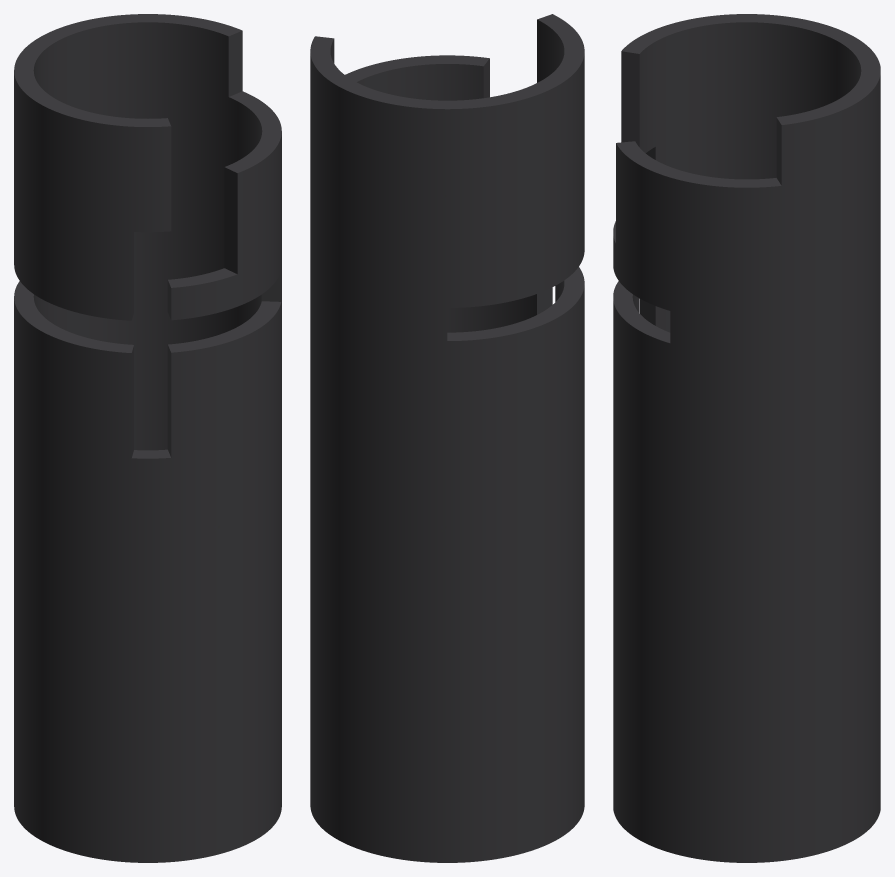
The model's file is king-black-hd.glb.
3 renders of one model, left to right at view 1: azimuth 30°, elevation 25°; view 2: azimuth 150°, elevation 25°; view 3: azimuth 270°, elevation 25°, orthographic. The views are drawn at different scales.
Parts seen in each view (by area): view 1: 01_kral_cerna; view 2: 01_kral_cerna; view 3: 01_kral_cerna.
Boxes of the visible parts, <box> form: 01_kral_cerna: <box>14,14,281,862</box>; 01_kral_cerna: <box>310,14,584,862</box>; 01_kral_cerna: <box>613,14,880,862</box>.
Size of the model in its own units: 0.4681 by 1.42 by 0.4681.
1 material, 1 textured.
